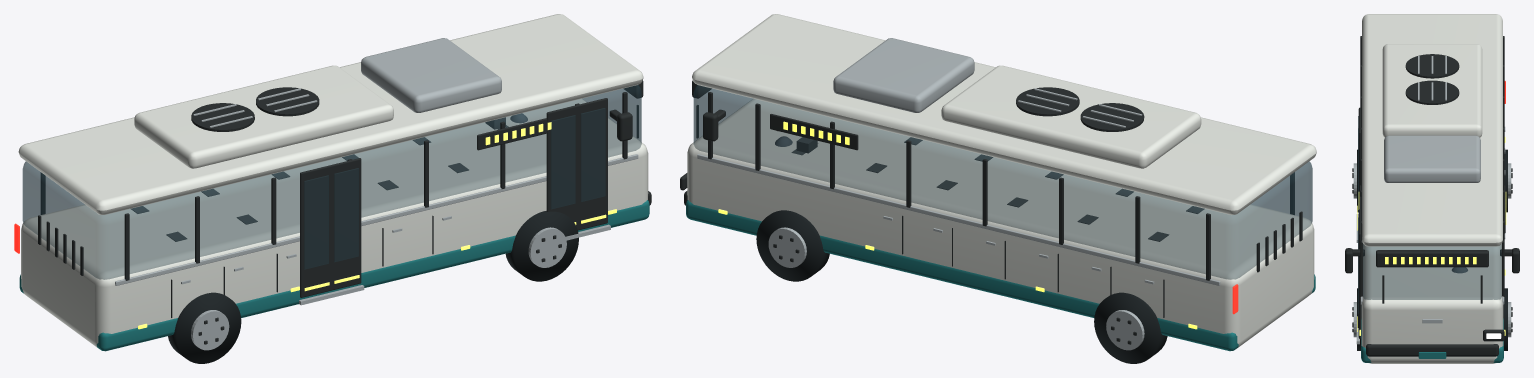
Rendered from city-bus-v1.glb.
The picture shows the model from 3 angles, left to right: view 1: azimuth 30°, elevation 25°; view 2: azimuth 150°, elevation 25°; view 3: azimuth 270°, elevation 25°; orthographic projection. The views are drawn at different scales.
Visible parts, largest first — view 1: Low floor body, Roof shell, Continuous window band, Roof battery pod, Passenger door.001, Passenger door, HVAC pod, Lower green skirt, Road wheel rear_left, Road wheel front_left, Door glass, Door glass.002 (+8 smaller); view 2: Low floor body, Continuous window band, Roof shell, Roof battery pod, Lower green skirt, HVAC pod, Shoulder trim.001, Road wheel front_right, Road wheel rear_right, Cylinder.001, Cylinder, Side route display.001 (+2 smaller); view 3: Roof shell, Low floor body, Roof battery pod, Continuous window band, HVAC pod, Destination panel, Bumper, Cylinder, Cylinder.001, Passenger door, Road wheel front_right, Lower green skirt (+8 smaller).
Boxes of the visible parts, <box> form: Low floor body: <box>21,99,648,349</box>; Roof shell: <box>18,14,643,214</box>; Continuous window band: <box>22,85,641,279</box>; Roof battery pod: <box>134,65,393,168</box>; Passenger door.001: <box>300,158,361,297</box>; Passenger door: <box>546,98,607,230</box>; HVAC pod: <box>361,38,501,112</box>; Lower green skirt: <box>19,200,649,351</box>; Road wheel rear_left: <box>168,292,241,363</box>; Road wheel front_left: <box>505,211,578,281</box>; Door glass: <box>551,115,575,209</box>; Door glass.002: <box>304,175,328,269</box>; Low floor body: <box>687,99,1314,348</box>; Continuous window band: <box>693,85,1312,279</box>; Roof shell: <box>692,14,1316,215</box>; Roof battery pod: <box>941,65,1201,168</box>; Lower green skirt: <box>686,200,1315,351</box>; HVAC pod: <box>833,38,974,112</box>; Shoulder trim.001: <box>697,154,1220,285</box>; Road wheel front_right: <box>756,210,829,281</box>; Road wheel rear_right: <box>1094,292,1167,363</box>; Cylinder.001: <box>1016,87,1079,116</box>; Cylinder: <box>1080,103,1144,131</box>; Side route display.001: <box>770,114,858,150</box>; Roof shell: <box>1362,14,1502,246</box>; Low floor body: <box>1361,243,1503,363</box>; Roof battery pod: <box>1382,44,1482,137</box>; Continuous window band: <box>1363,244,1501,299</box>; HVAC pod: <box>1384,135,1480,182</box>; Destination panel: <box>1376,250,1488,267</box>; Bumper: <box>1366,344,1498,356</box>; Cylinder: <box>1405,54,1459,78</box>; Cylinder.001: <box>1405,80,1459,104</box>; Passenger door: <box>1358,209,1360,338</box>; Road wheel front_right: <box>1503,288,1507,350</box>; Lower green skirt: <box>1361,318,1503,362</box>.
Bounding box in the file's own units: 9.49 × 3.26 × 3.06.
